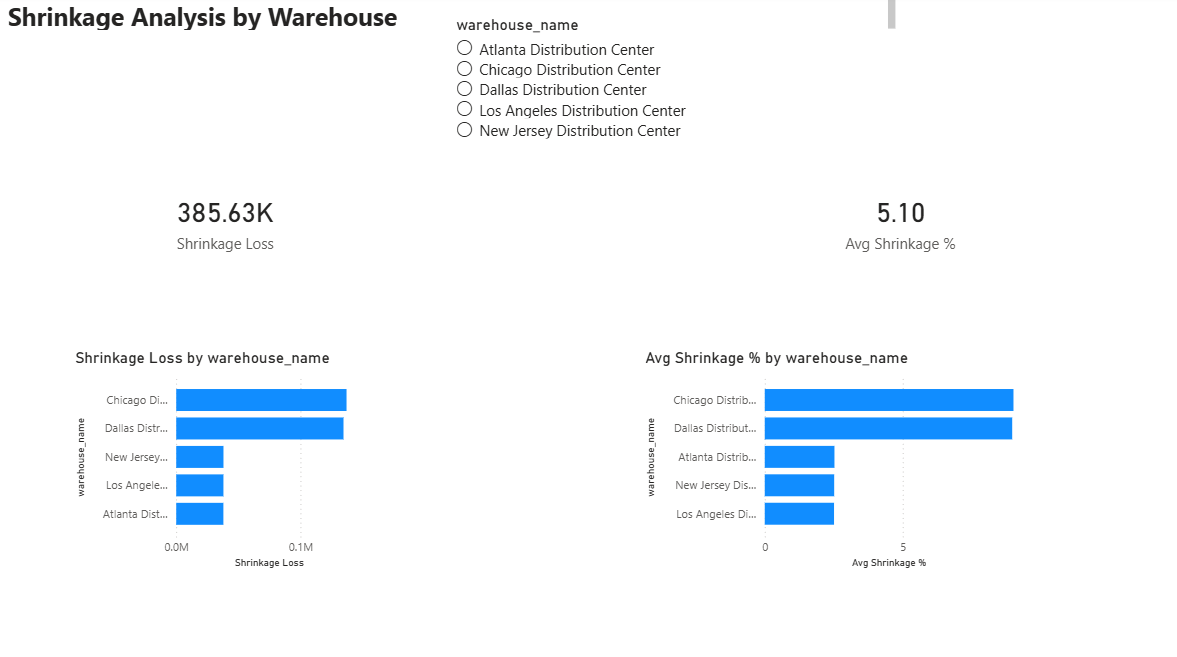

The dashboard page shown, as its layout file describes it:
{"tool":"powerbi","page":{"name":"Shrinkage Analysis","canvas":[1280,720],"ordinal":1},"visuals":[{"type":"textbox","box":[9.7,0,968.3,43.7],"z":0},{"type":"card","fields":{"Values":["retail inventory_transactions.Shrinkage Loss"]},"box":[82.6,161.9,333.6,165.2],"z":1000},{"type":"barChart","fields":{"Y":["retail inventory_transactions.Avg Shrinkage %"],"Category":["retail warehouses.warehouse_name"]},"box":[697.9,382.1,411.3,242.9],"z":2000},{"type":"card","fields":{"Values":["retail inventory_transactions.Avg Shrinkage %"]},"box":[811.2,161.9,333.6,165.2],"z":3000},{"type":"barChart","fields":{"Category":["retail warehouses.warehouse_name"],"Y":["retail inventory_transactions.Shrinkage Loss"]},"box":[83,382,334,243],"z":4000},{"type":"listSlicer","fields":{"Values":["retail warehouses.warehouse_name"]},"box":[493.9,22.7,357.8,205.6],"z":5000}]}

Visuals, with their boxes in screenshot pixels (x1, y1, x2, y2), scaled from the page's 1280x720 canvas onto the 1177x657 screenshot:
textbox: (x1=9, y1=0, x2=899, y2=40)
card - retail inventory_transactions.Shrinkage Loss: (x1=76, y1=148, x2=383, y2=298)
barChart - retail inventory_transactions.Avg Shrinkage % x retail warehouses.warehouse_name: (x1=642, y1=349, x2=1020, y2=570)
card - retail inventory_transactions.Avg Shrinkage %: (x1=746, y1=148, x2=1053, y2=298)
barChart - retail warehouses.warehouse_name x retail inventory_transactions.Shrinkage Loss: (x1=76, y1=349, x2=383, y2=570)
listSlicer - retail warehouses.warehouse_name: (x1=454, y1=21, x2=783, y2=208)
